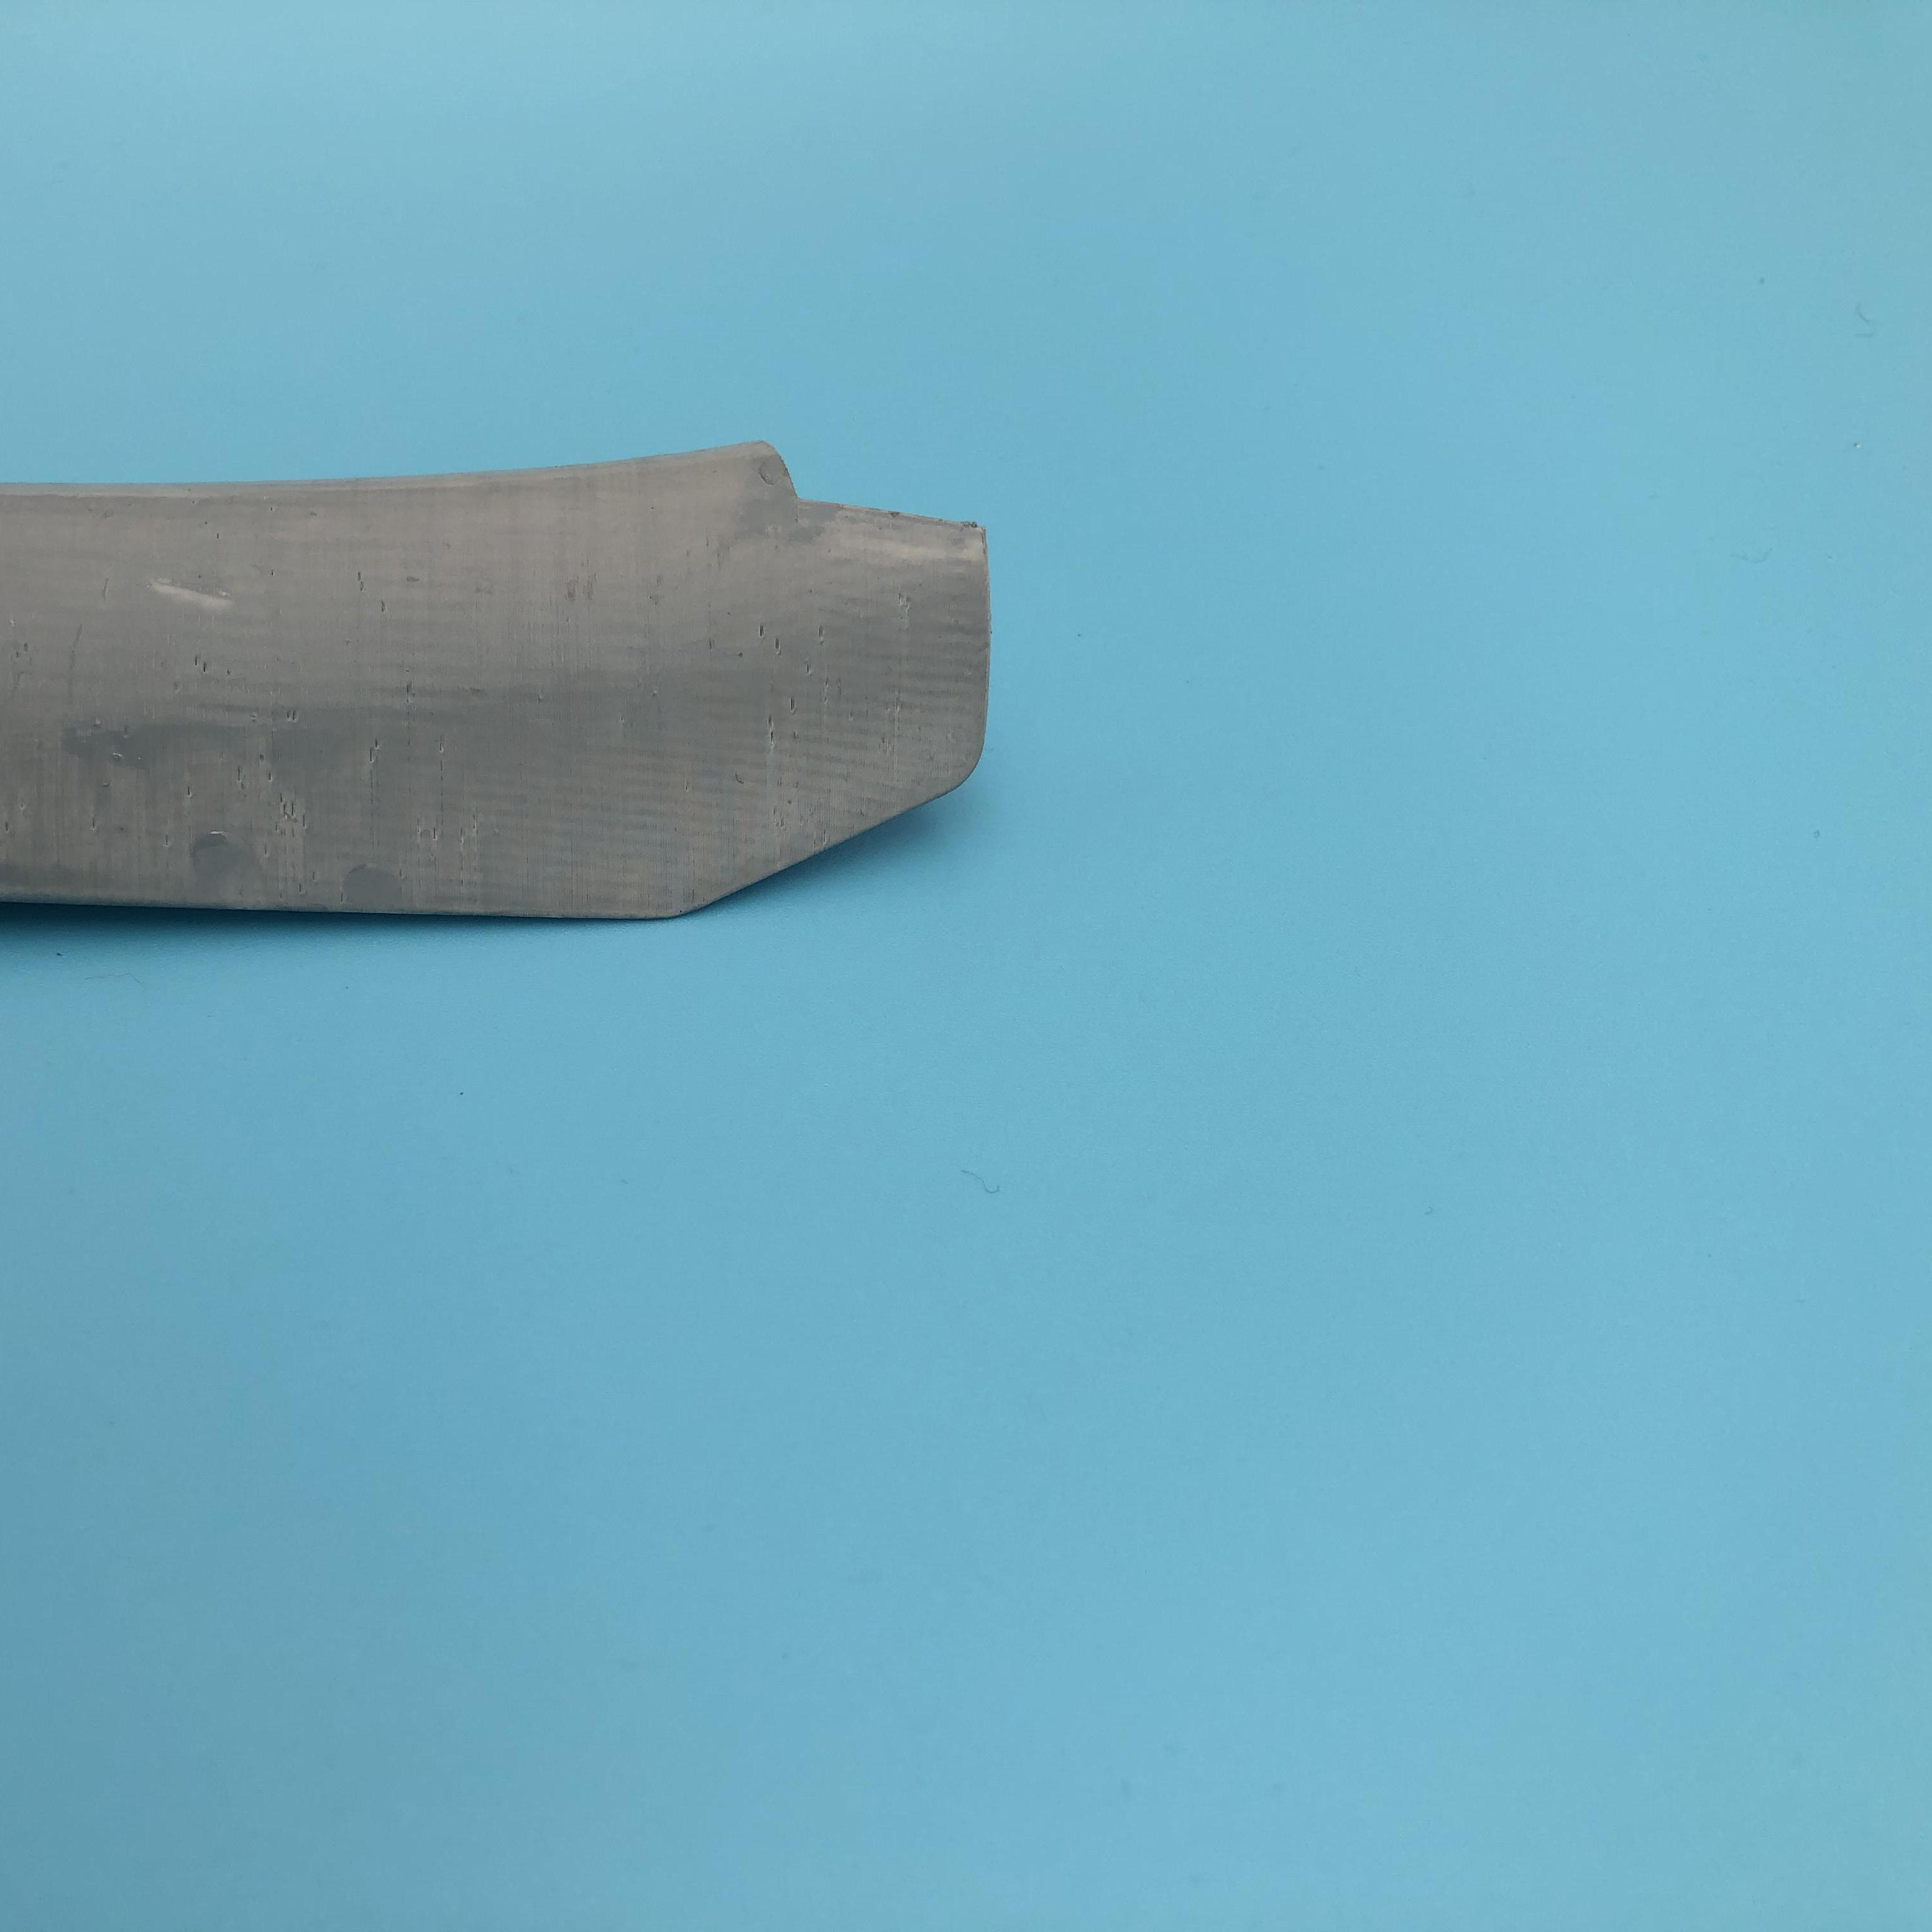fracture: (766, 423, 984, 538)
